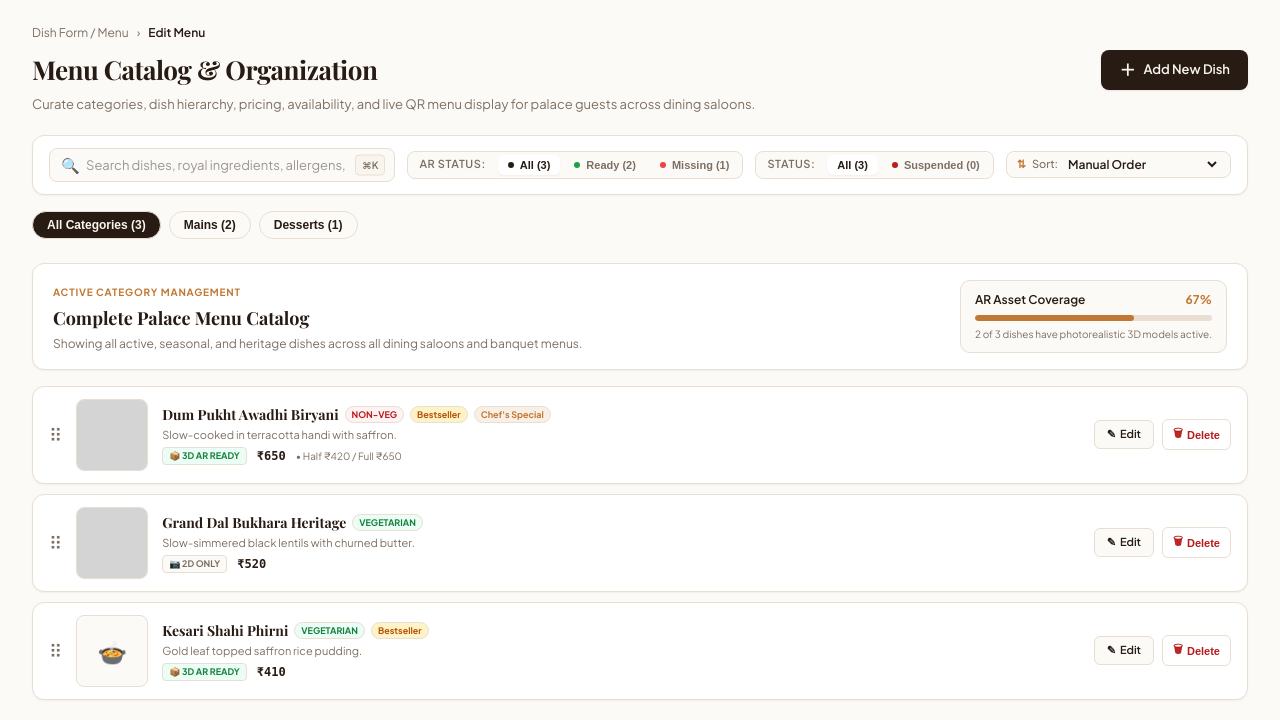
Test: MenuCatalog Component Suite › Opens delete confirmation modal and invokes deleteDish
Later steps or results of the test are not shown.
Expected: the heading "Dum Pukht Awadhi Biryani" is shown, [162,404,339,425]
Click the button "🗑 Delete" in the row of "Dum Pukht Awadhi Biryani" at (1196, 434), box [1162,419,1231,450]
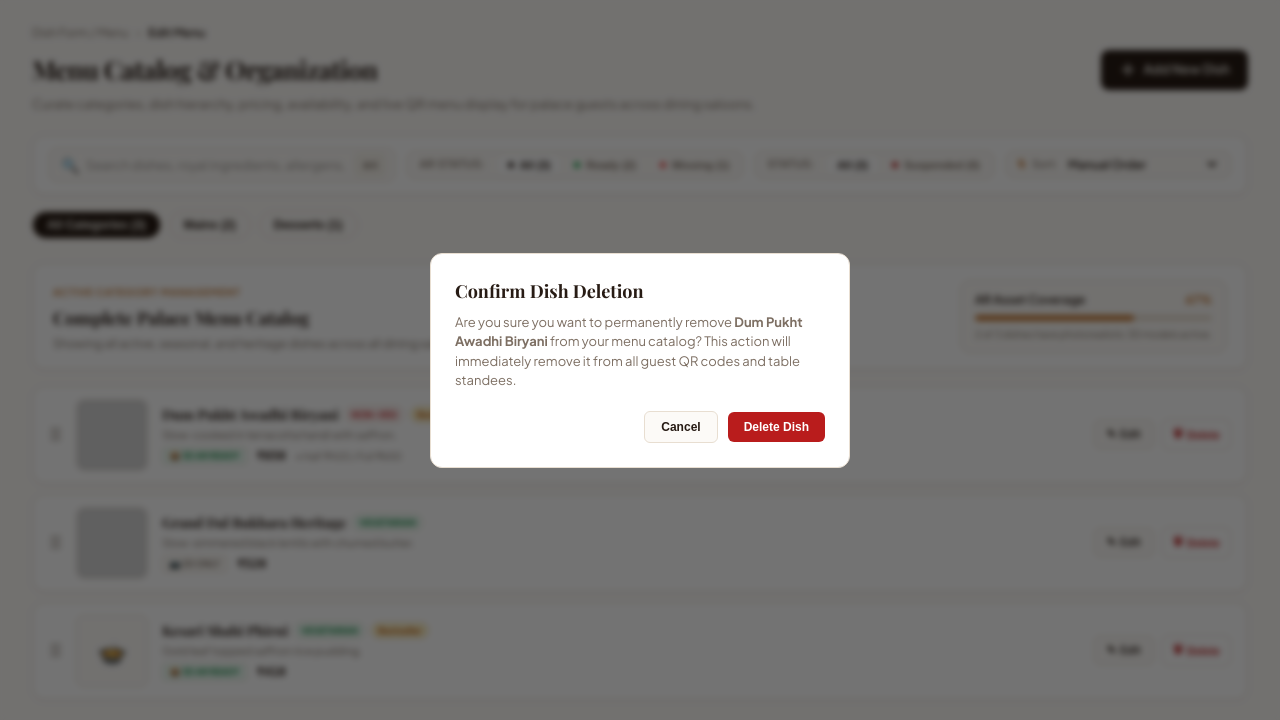
Expected: the heading "Confirm Dish Deletion" is shown, [455,278,644,302]
